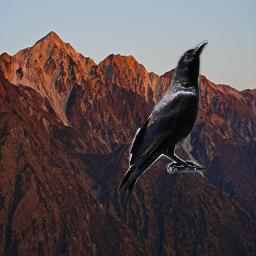Crow: (117, 40, 208, 205)
